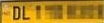character: (12, 5, 20, 20), (22, 5, 30, 20)
